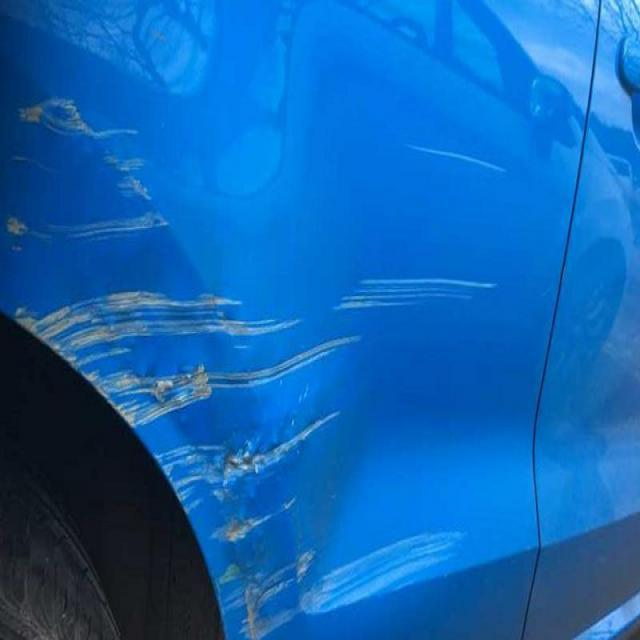scratch: (14, 270, 447, 640), (0, 86, 188, 246), (314, 266, 501, 326), (400, 128, 510, 183)
